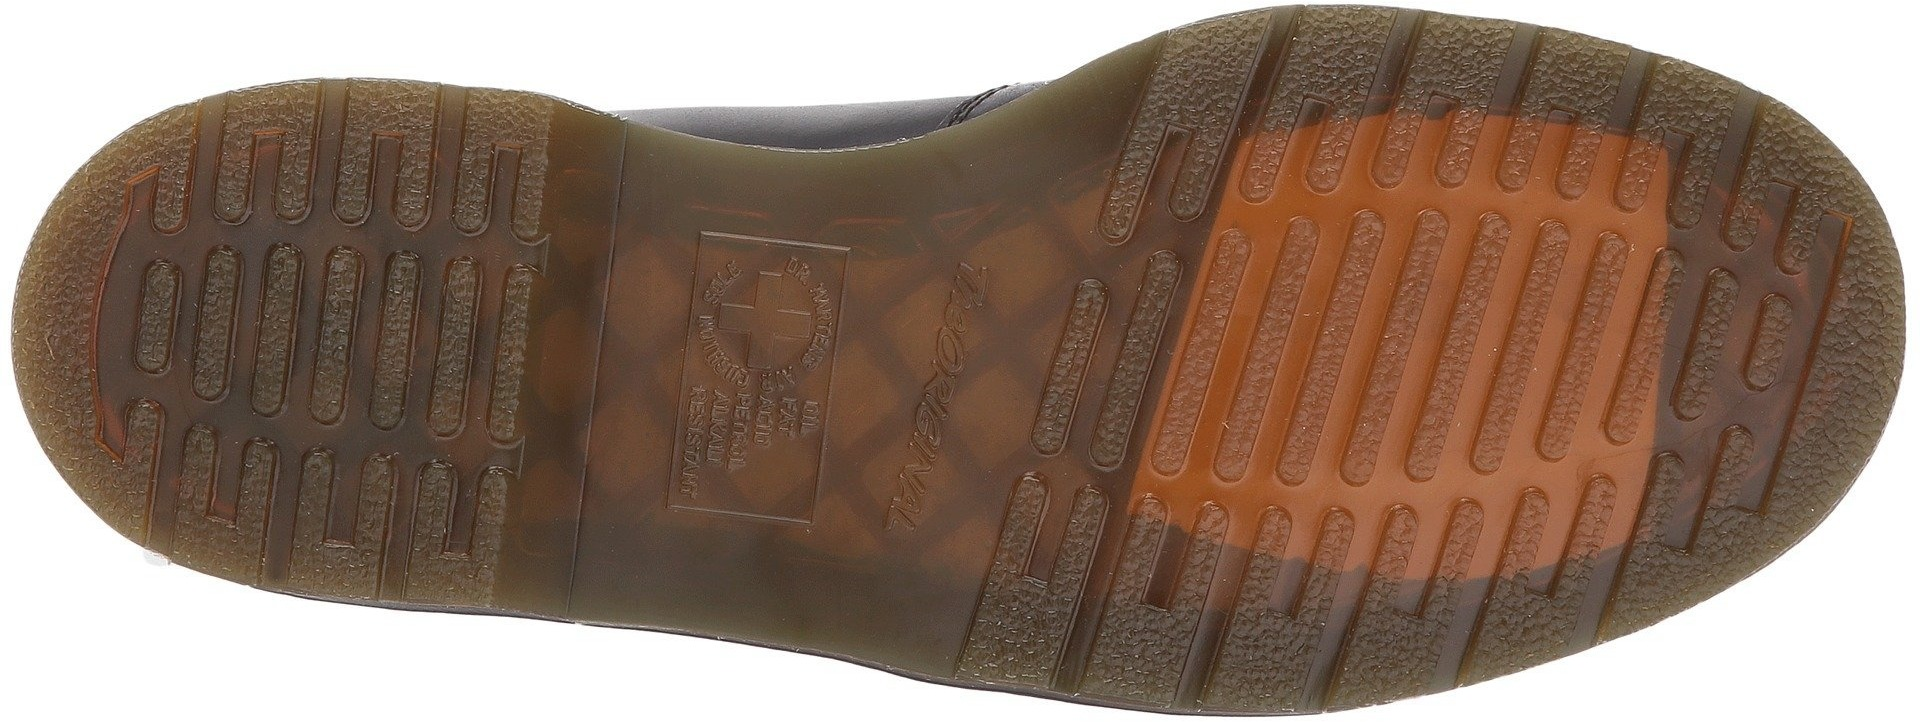circle: (666, 210, 1020, 545)
line: (1031, 51, 1689, 639), (84, 116, 542, 564), (1602, 217, 1893, 488)
quad: (1031, 51, 1689, 639), (84, 116, 542, 564), (666, 210, 1020, 545), (573, 209, 906, 549), (1602, 217, 1893, 488)
star: (651, 220, 896, 531)
text: (666, 210, 1020, 545), (651, 220, 896, 531)
